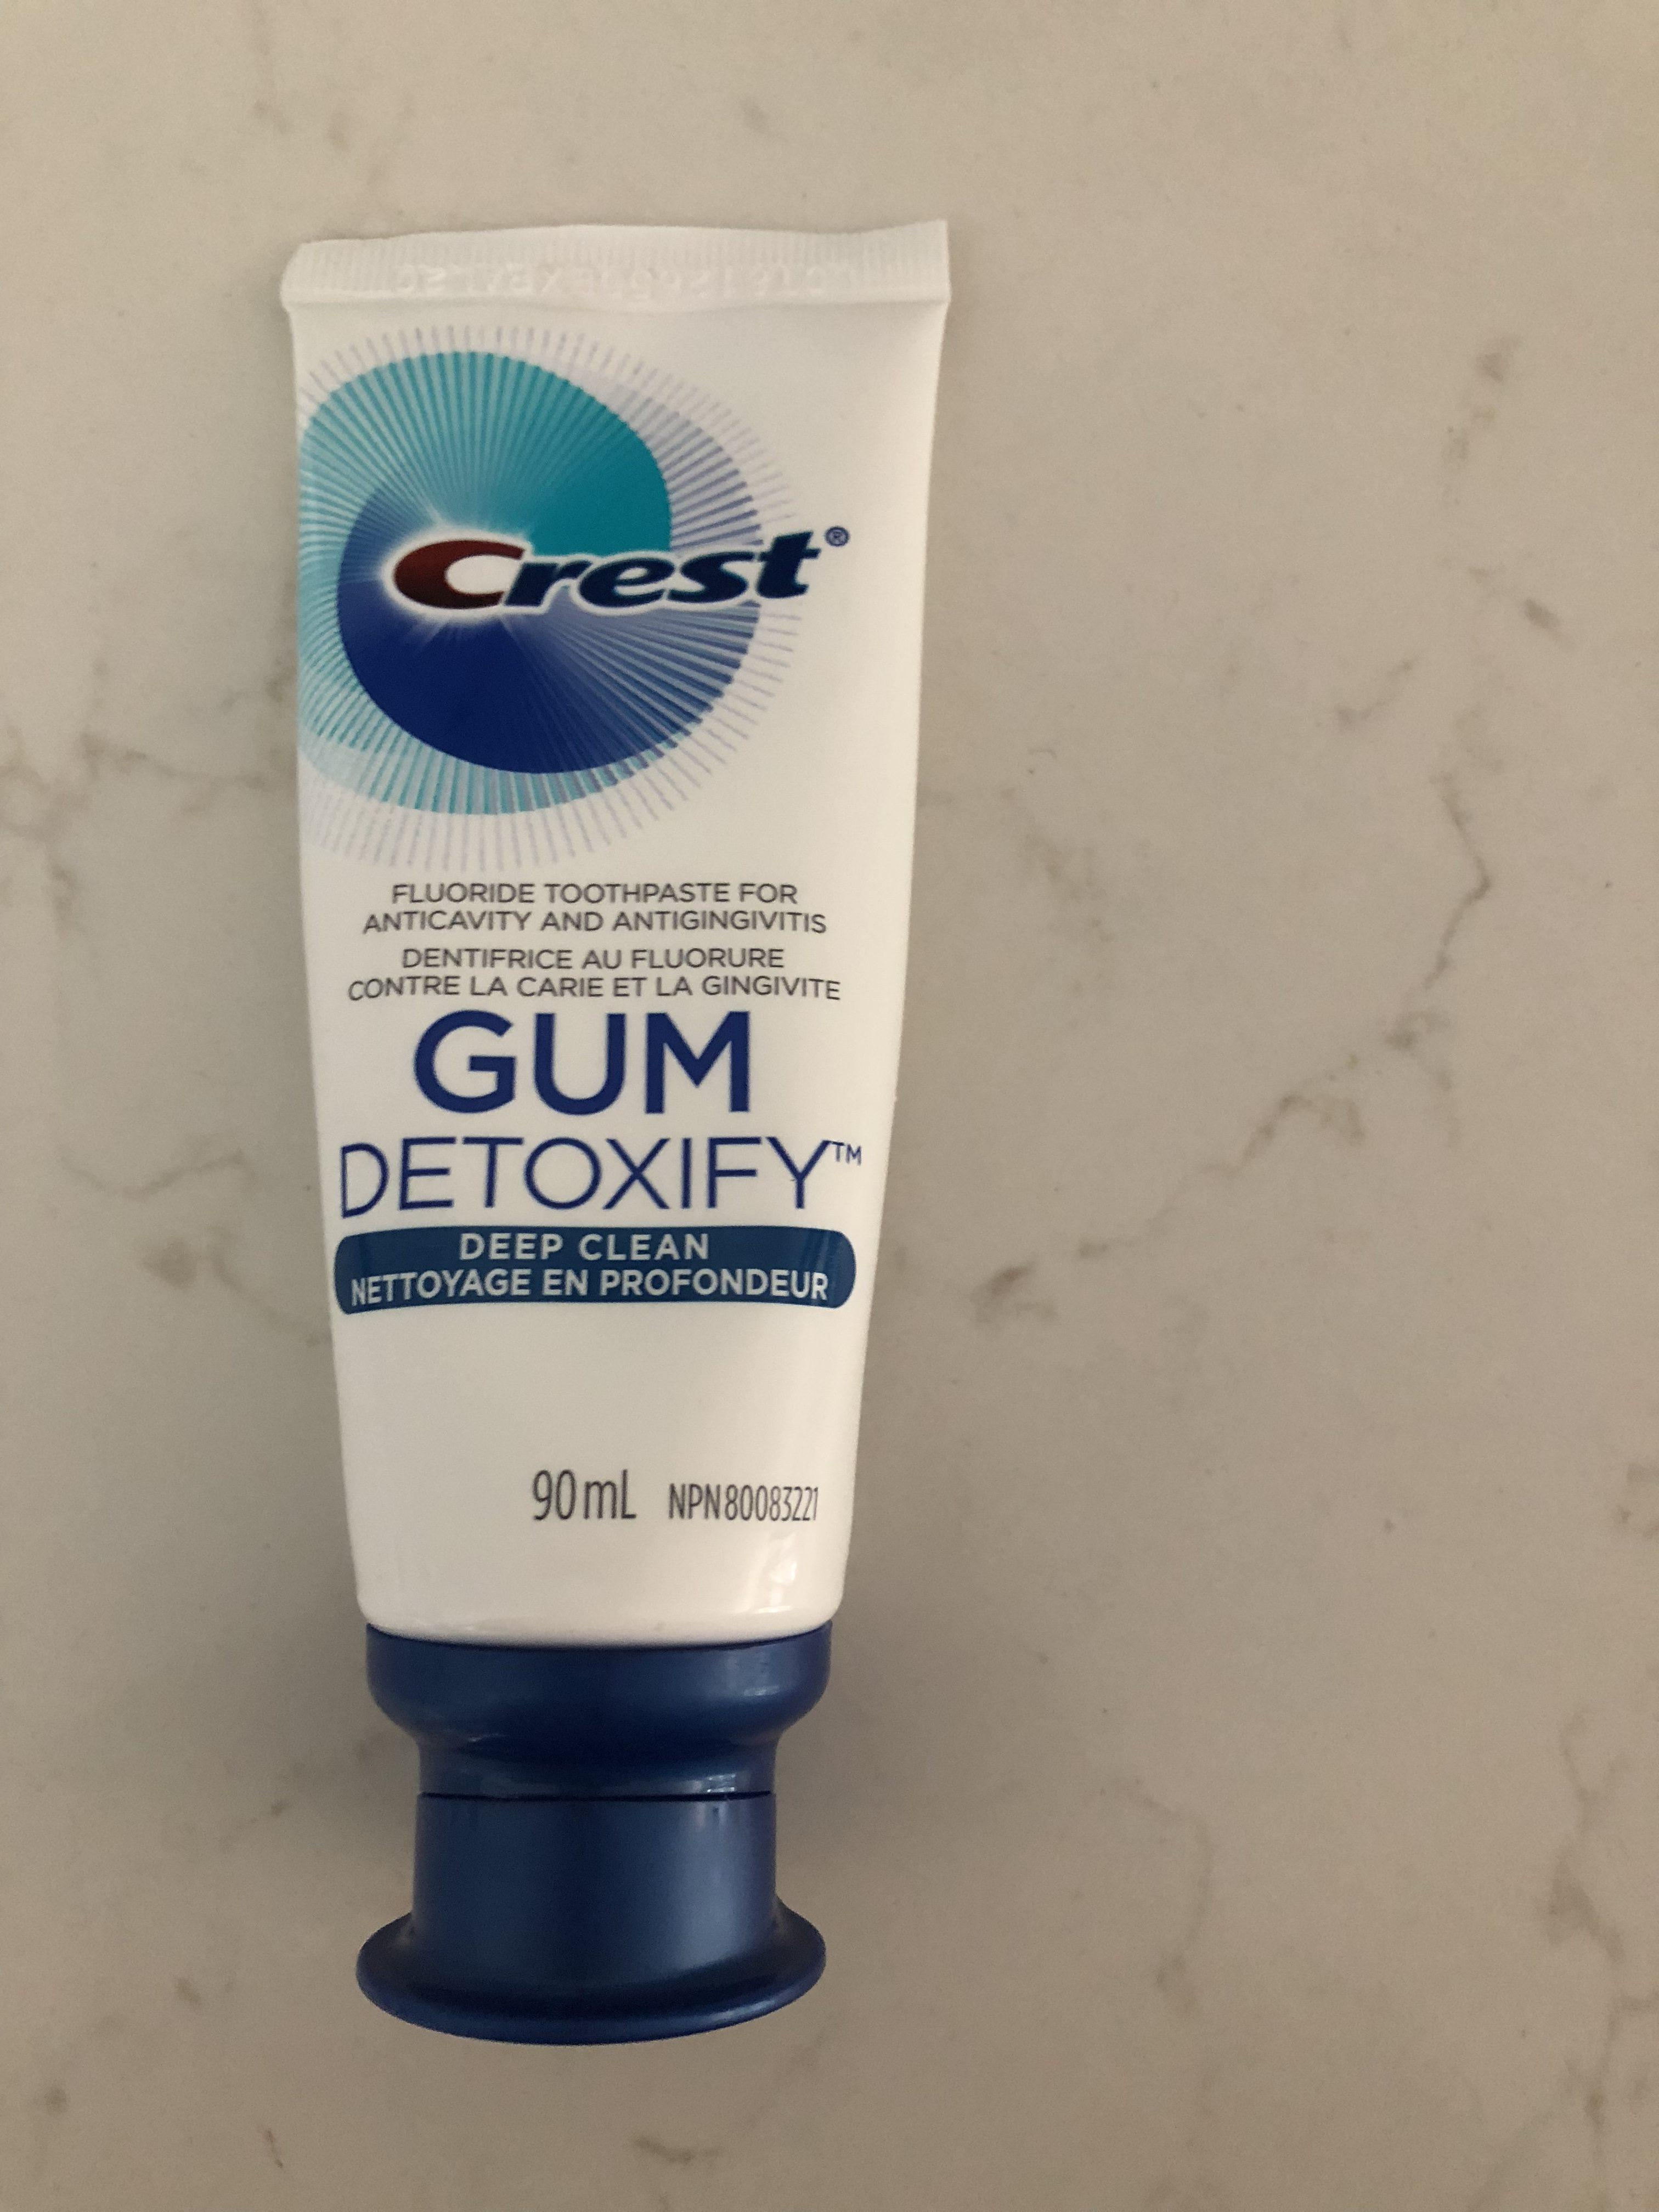toothpaste: (254, 206, 951, 2067)
